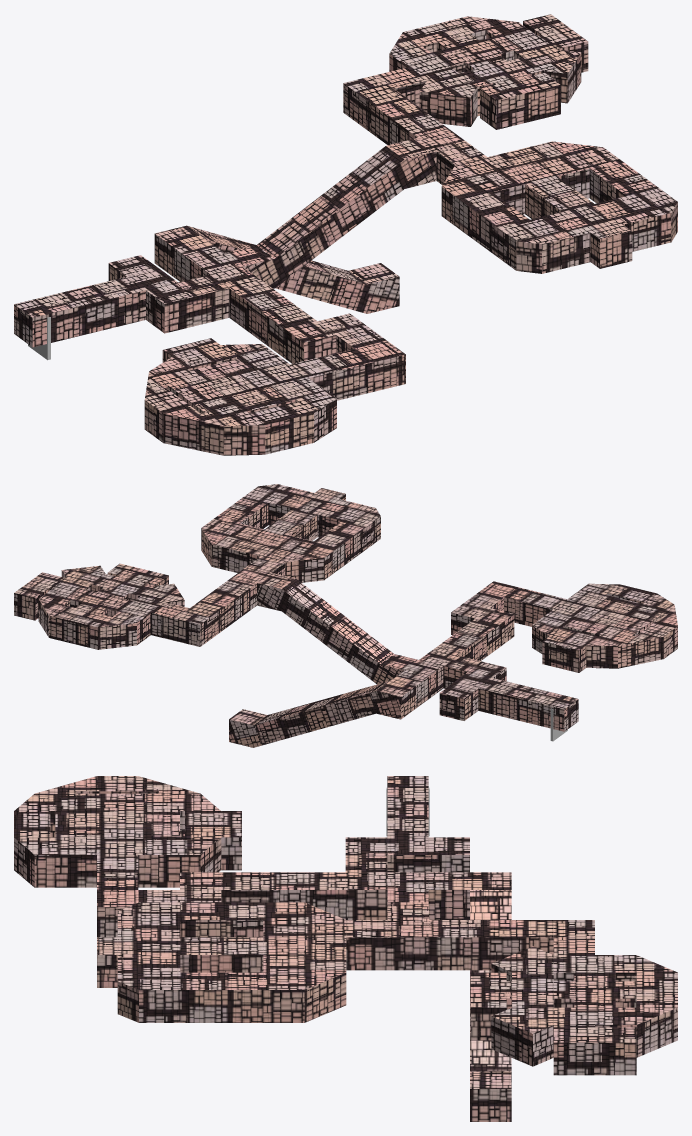
File: level0.obj
The picture shows the model from 3 angles, top to bottom: view 1: azimuth 30°, elevation 25°; view 2: azimuth 150°, elevation 25°; view 3: azimuth 270°, elevation 25°; orthographic projection. The views are drawn at different scales.
Visible parts, largest first — view 1: Physmesh_Plane; view 2: Physmesh_Plane; view 3: Physmesh_Plane.
Boxes of the visible parts, <box> form: Physmesh_Plane: <box>14,14,677,455</box>; Physmesh_Plane: <box>14,484,677,747</box>; Physmesh_Plane: <box>14,776,677,1121</box>.
Size of the model in its own units: 93.6 by 25.8 by 76.87.
